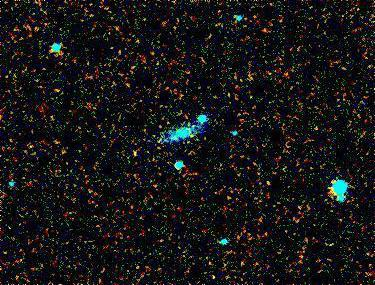star: (121, 136, 151, 166)
